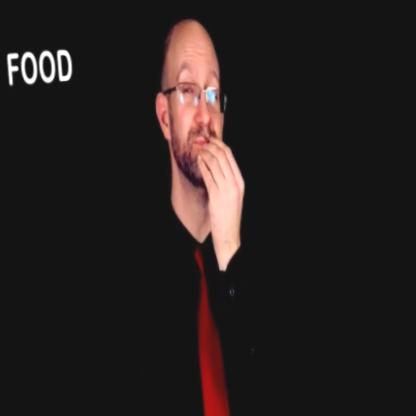Food: (128, 4, 289, 416)
